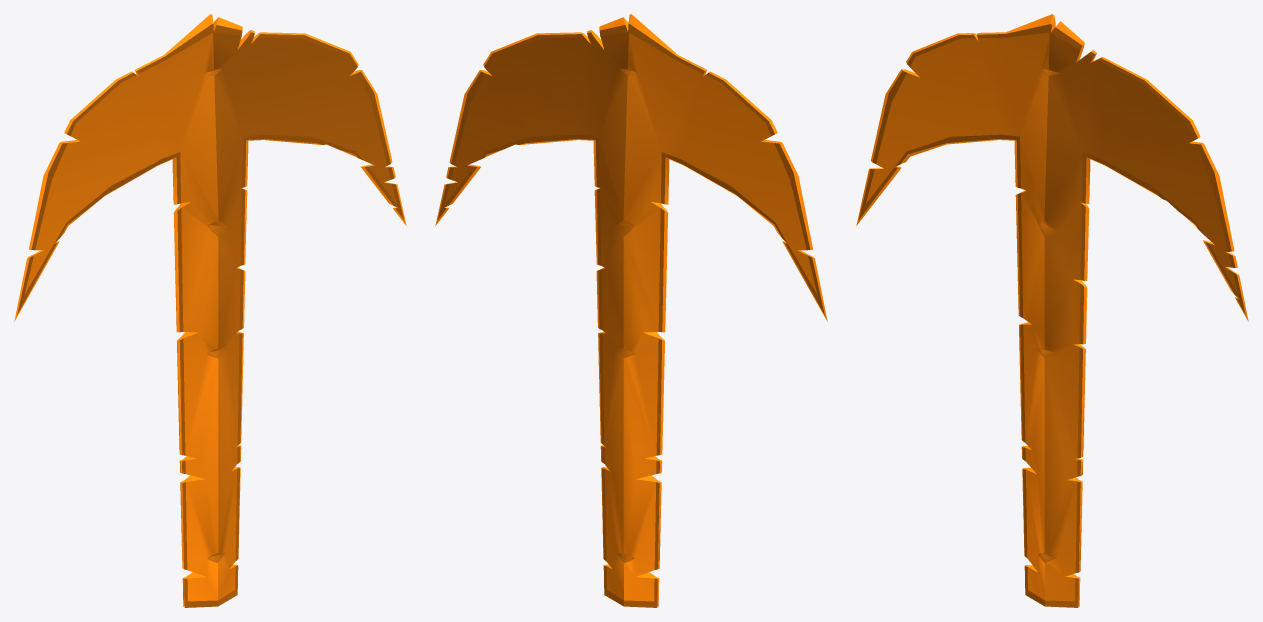
The model's file is bronze_blade_scratched_029.glb.
The picture shows the model from 3 angles, left to right: view 1: azimuth 30°, elevation 25°; view 2: azimuth 150°, elevation 25°; view 3: azimuth 330°, elevation 25°; orthographic projection.
Parts seen in each view (by area): view 1: bronze_blade_scratched.029; view 2: bronze_blade_scratched.029; view 3: bronze_blade_scratched.029.
Part boxes in pixels (x1,y1,x2,y2): bronze_blade_scratched.029: (14, 14, 406, 607); bronze_blade_scratched.029: (435, 14, 827, 607); bronze_blade_scratched.029: (856, 14, 1248, 607).
Bounding box in the file's own units: 8.24 × 11.78 × 0.5822.
1 material, 1 textured.
